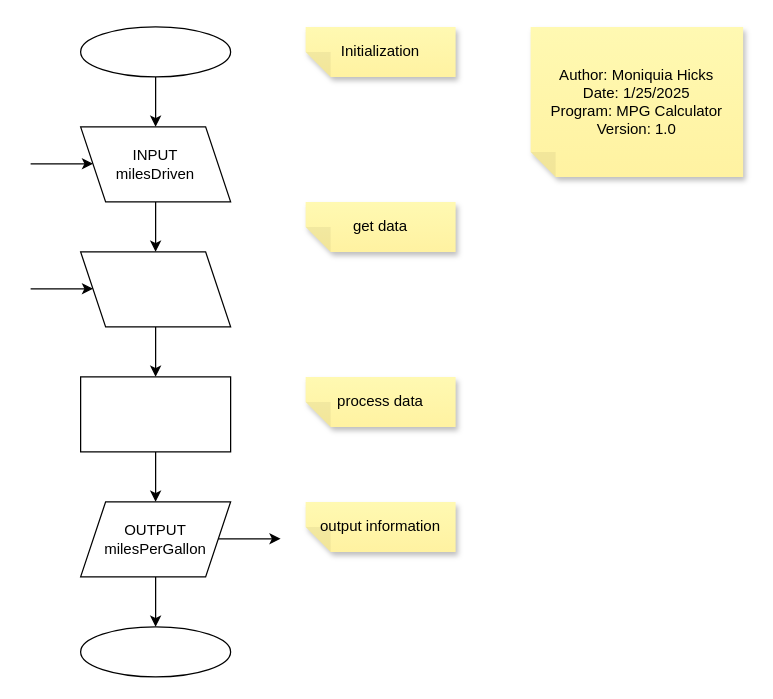
Image size: 773x699. Some labels were removed from this diagram. The centre of each missing label's shape, as x and y in pixels:
INPUT gallonsOfGas: (x=155, y=289)
milesPerGallon = milesDriven / gallonsOfGas: (x=155, y=414)
Start: (x=155, y=51)
Stop: (x=155, y=651)
